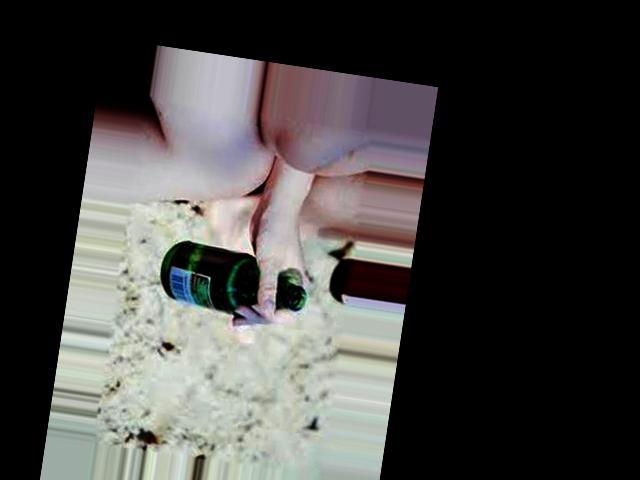beer: (156, 236, 313, 323)
